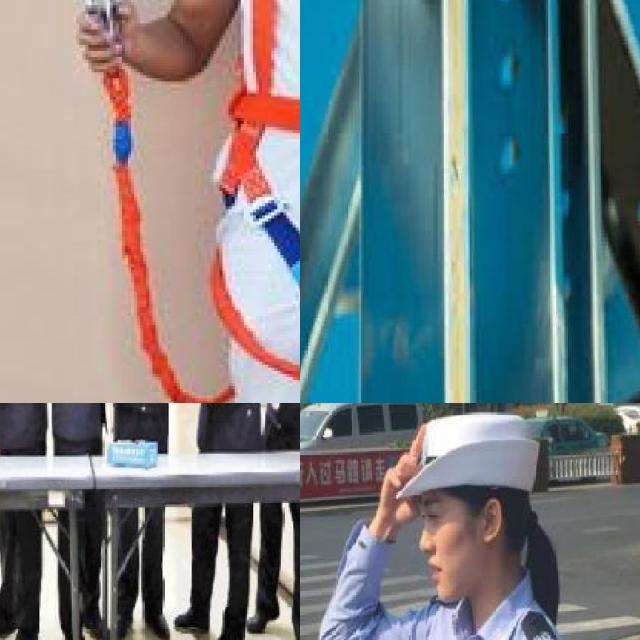Harness: (210, 0, 300, 370)
No_Ear-Protection: (480, 496, 504, 546)
No_Glasses: (421, 495, 455, 534)
face_nomask: (394, 494, 518, 599)
hand_noglove: (369, 422, 426, 532)
person: (313, 403, 619, 640), (300, 0, 477, 403), (117, 403, 188, 640), (187, 403, 258, 640), (54, 403, 119, 640), (0, 403, 50, 640), (257, 403, 300, 640)
shoes: (142, 607, 174, 640), (211, 615, 247, 640), (173, 608, 209, 632), (2, 625, 48, 640), (0, 607, 18, 638)
